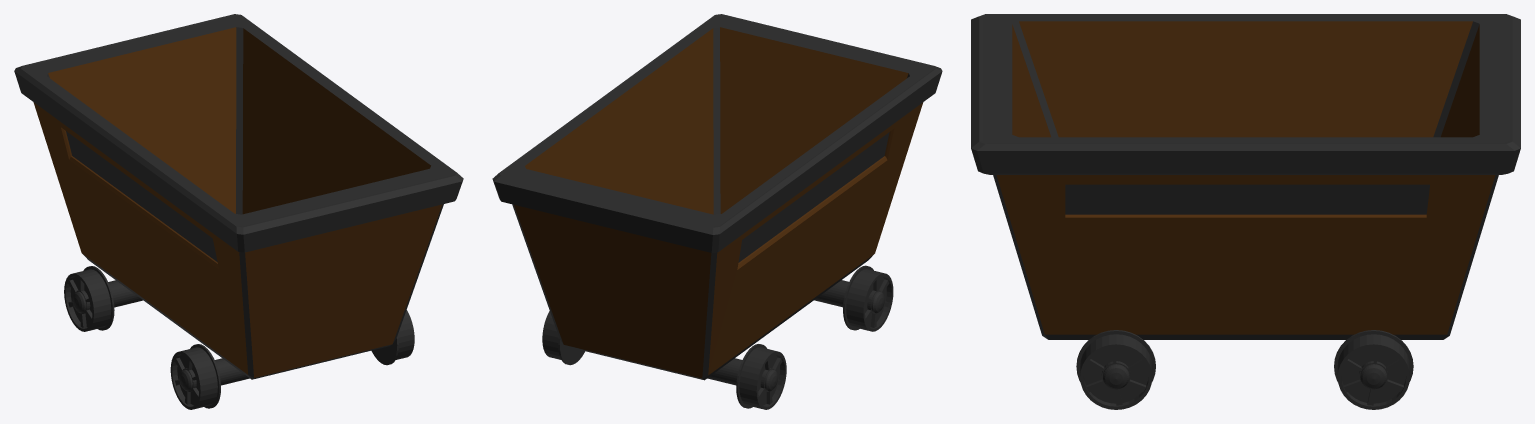
File: cart.gltf
3 renders of one model, left to right at view 1: azimuth 30°, elevation 25°; view 2: azimuth 150°, elevation 25°; view 3: azimuth 270°, elevation 25°, orthographic. The views are drawn at different scales.
Parts seen in each view (by area): view 1: Cart; view 2: Cart; view 3: Cart.
Part boxes in pixels (x1,y1,x2,y2): Cart: (14,14,463,409); Cart: (492,14,942,409); Cart: (971,14,1520,409).
Size of the model in its own units: 2.23 by 2.11 by 3.88.
